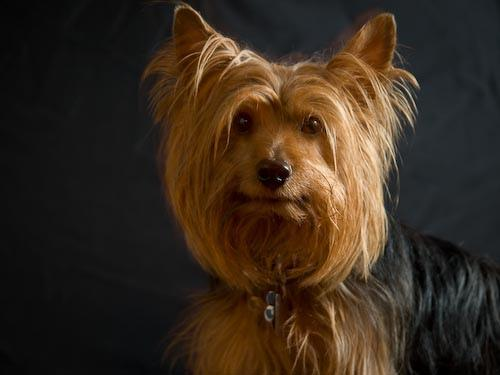dog-yorkshire_terrier: (171, 4, 394, 230)
